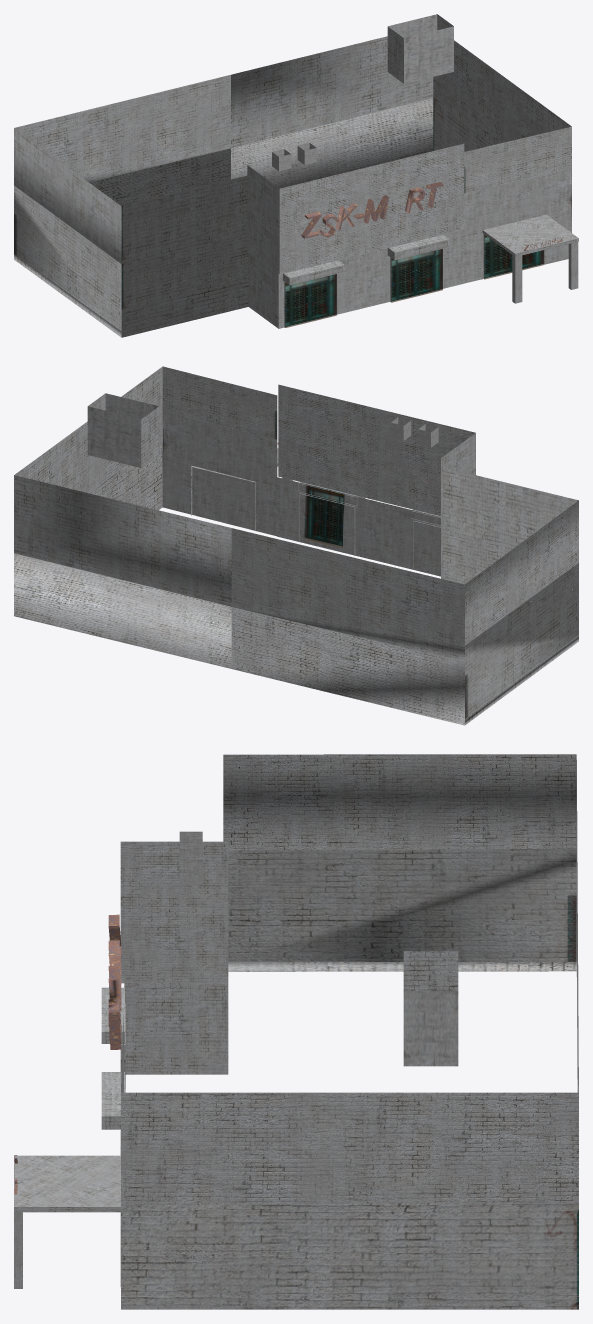
The model's file is zskmart_LOD1.FBX.
The picture shows the model from 3 angles, top to bottom: view 1: azimuth 30°, elevation 25°; view 2: azimuth 150°, elevation 25°; view 3: azimuth 270°, elevation 25°; orthographic projection. The views are drawn at different scales.
Parts seen in each view (by area): view 1: Line003, Text003; view 2: Line003; view 3: Line003, Text003.
Boxes of the visible parts, x1,y1,x2,y2 form: Line003: (14,14,578,337); Text003: (301,182,562,250); Line003: (14,366,578,725); Line003: (14,754,578,1309); Text003: (14,914,121,1194).
Bounding box in the file's own units: 100 × 40.48 × 70.7.
Materials: 2 (2 with a texture image).
